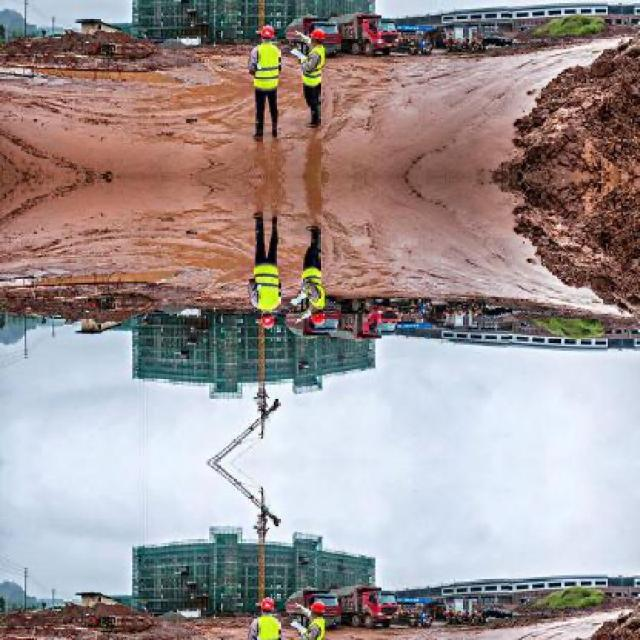con casco: (239, 308, 304, 351)
